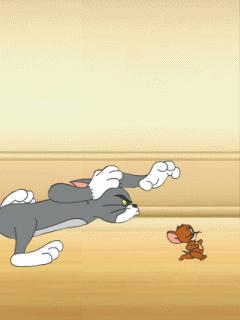jerry: (166, 223, 208, 263)
